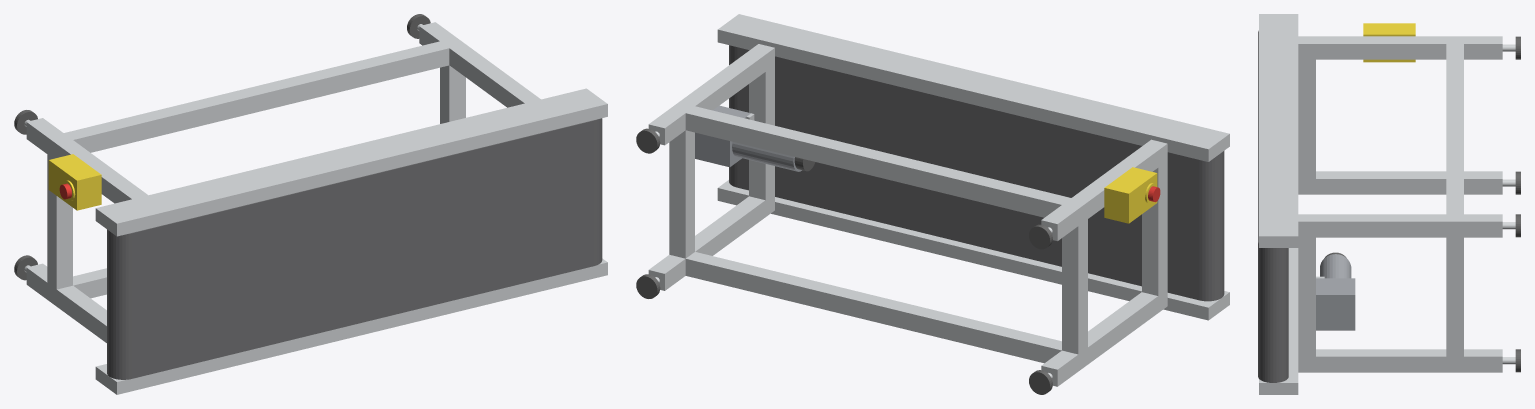
File: belt_1200x400.glb
The picture shows the model from 3 angles, left to right: view 1: azimuth 30°, elevation 25°; view 2: azimuth 150°, elevation 25°; view 3: azimuth 270°, elevation 25°; orthographic projection. The views are drawn at different scales.
Visible parts, largest first — view 1: belt_rubber, anodised_aluminium, safety_yellow, foot_black; view 2: anodised_aluminium, belt_rubber, motor_grey, safety_yellow, foot_black; view 3: anodised_aluminium, belt_rubber, motor_grey, safety_yellow, foot_black.
Part boxes in pixels (x1=…): belt_rubber: x1=107, y1=118, x2=602, y2=379; anodised_aluminium: x1=24, y1=22, x2=607, y2=394; safety_yellow: x1=48, y1=154, x2=101, y2=210; foot_black: x1=14, y1=14, x2=430, y2=280; anodised_aluminium: x1=648, y1=14, x2=1229, y2=386; belt_rubber: x1=729, y1=45, x2=1224, y2=301; motor_grey: x1=695, y1=105, x2=801, y2=171; safety_yellow: x1=1104, y1=167, x2=1157, y2=223; foot_black: x1=636, y1=128, x2=1052, y2=394; anodised_aluminium: x1=1259, y1=14, x2=1515, y2=394; belt_rubber: x1=1258, y1=30, x2=1288, y2=382; motor_grey: x1=1316, y1=254, x2=1355, y2=330; safety_yellow: x1=1363, y1=23, x2=1415, y2=62; foot_black: x1=1324, y1=36, x2=1520, y2=372.
Bounding box in the file's own units: 1.2 × 0.4 × 0.6.
